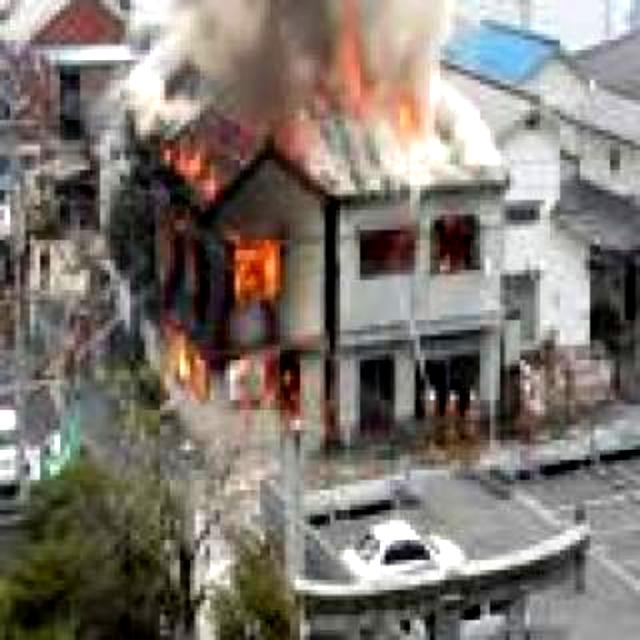fire: (142, 318, 302, 416), (160, 110, 230, 210), (232, 240, 280, 301)
smoke: (198, 0, 415, 126)
